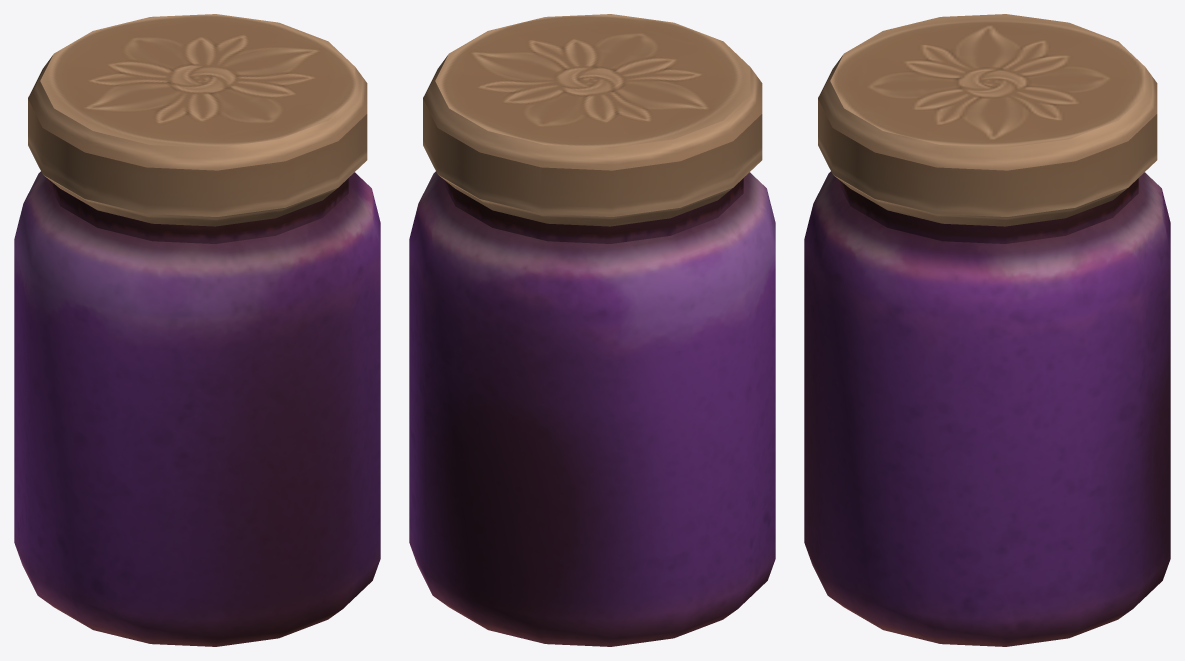
Rendered from SM_Glass_Jar_Purple.fbx.
The picture shows the model from 3 angles, left to right: view 1: azimuth 30°, elevation 25°; view 2: azimuth 150°, elevation 25°; view 3: azimuth 270°, elevation 25°; orthographic projection.
Visible parts, largest first — view 1: SM_Glass_Jar_Purple_LOD0; view 2: SM_Glass_Jar_Purple_LOD0; view 3: SM_Glass_Jar_Purple_LOD0.
Part boxes in pixels (x1,y1,x2,y2): SM_Glass_Jar_Purple_LOD0: (14,14,380,646); SM_Glass_Jar_Purple_LOD0: (409,14,775,646); SM_Glass_Jar_Purple_LOD0: (804,14,1170,646).
Size of the model in its own units: 17.98 by 17.88 by 26.87.
1 material, 1 textured.
